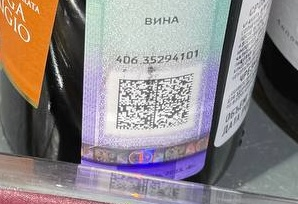2d: (114, 74, 195, 130)
